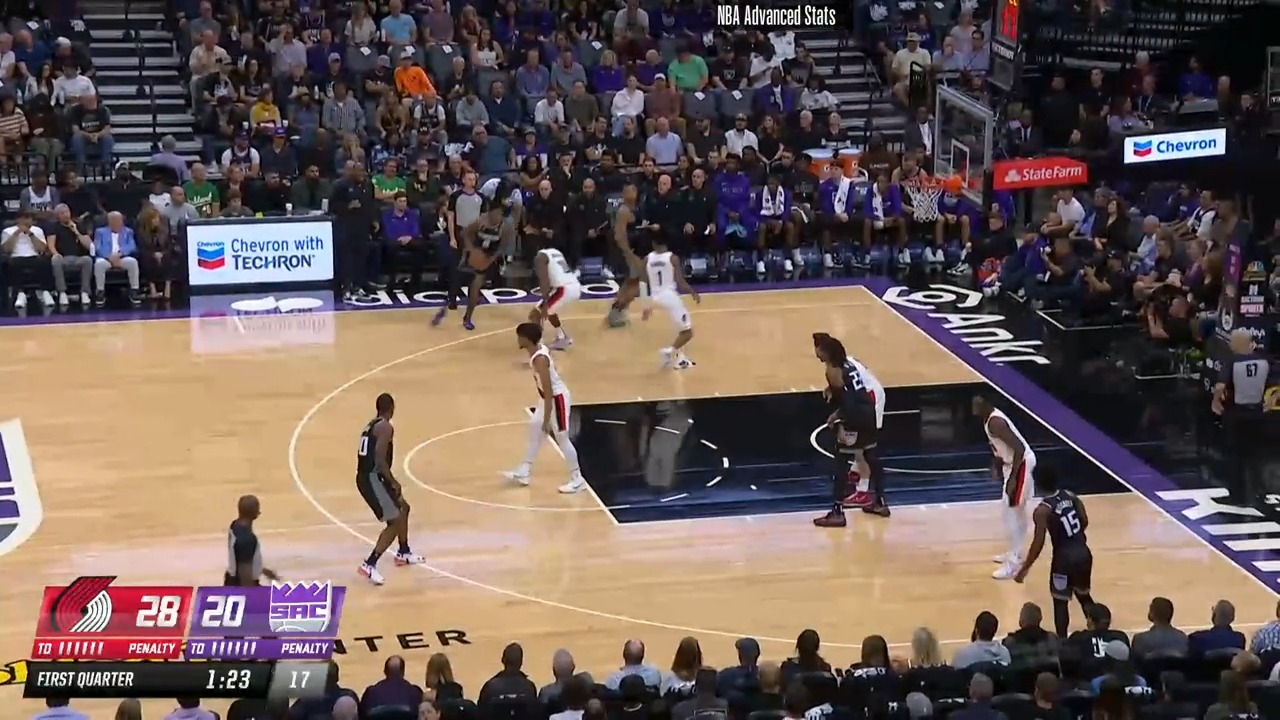net: (897, 169, 963, 222)
player: (812, 328, 894, 526), (961, 385, 1036, 585), (505, 320, 590, 496), (355, 391, 431, 587), (1023, 466, 1106, 635), (427, 198, 517, 332), (634, 227, 705, 375), (594, 182, 647, 330), (524, 233, 580, 354)
referee: (1210, 327, 1280, 511), (432, 173, 488, 314), (225, 495, 295, 589)
